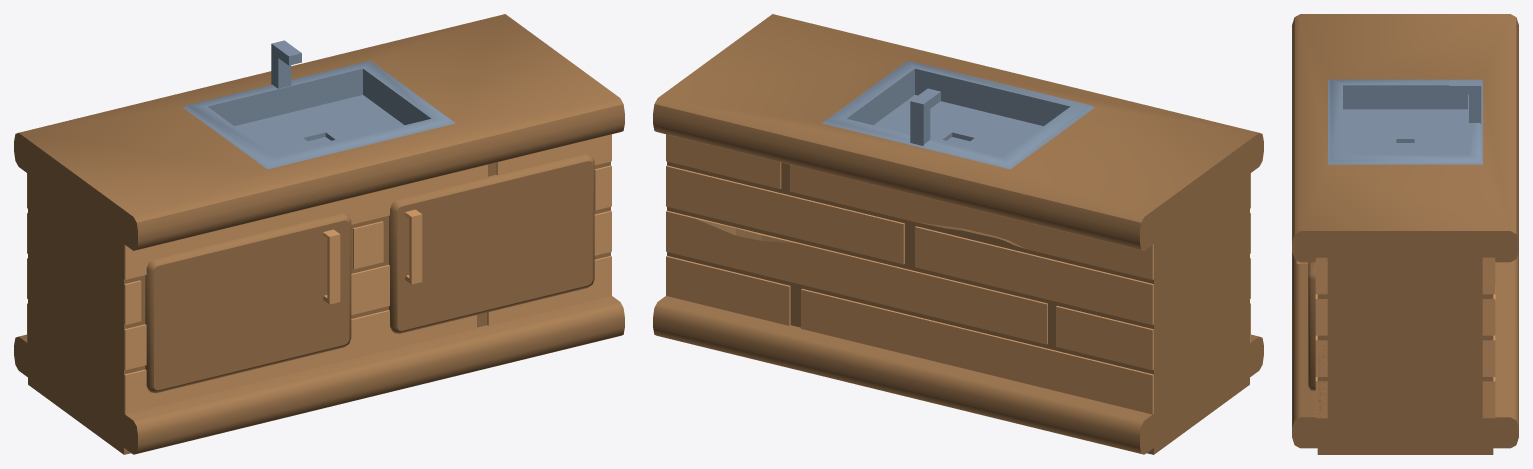
Rendered from Counter Sink.glb.
The picture shows the model from 3 angles, left to right: view 1: azimuth 30°, elevation 25°; view 2: azimuth 150°, elevation 25°; view 3: azimuth 270°, elevation 25°; orthographic projection. The views are drawn at different scales.
Parts seen in each view (by area): view 1: Environment_Counter_Sink; view 2: Environment_Counter_Sink; view 3: Environment_Counter_Sink.
Boxes of the visible parts, x1,y1,x2,y2 form: Environment_Counter_Sink: [14, 14, 624, 454]; Environment_Counter_Sink: [653, 14, 1263, 454]; Environment_Counter_Sink: [1292, 14, 1518, 454].
Bounding box in the file's own units: 4 × 2.26 × 1.77.
1 material, 1 textured.
